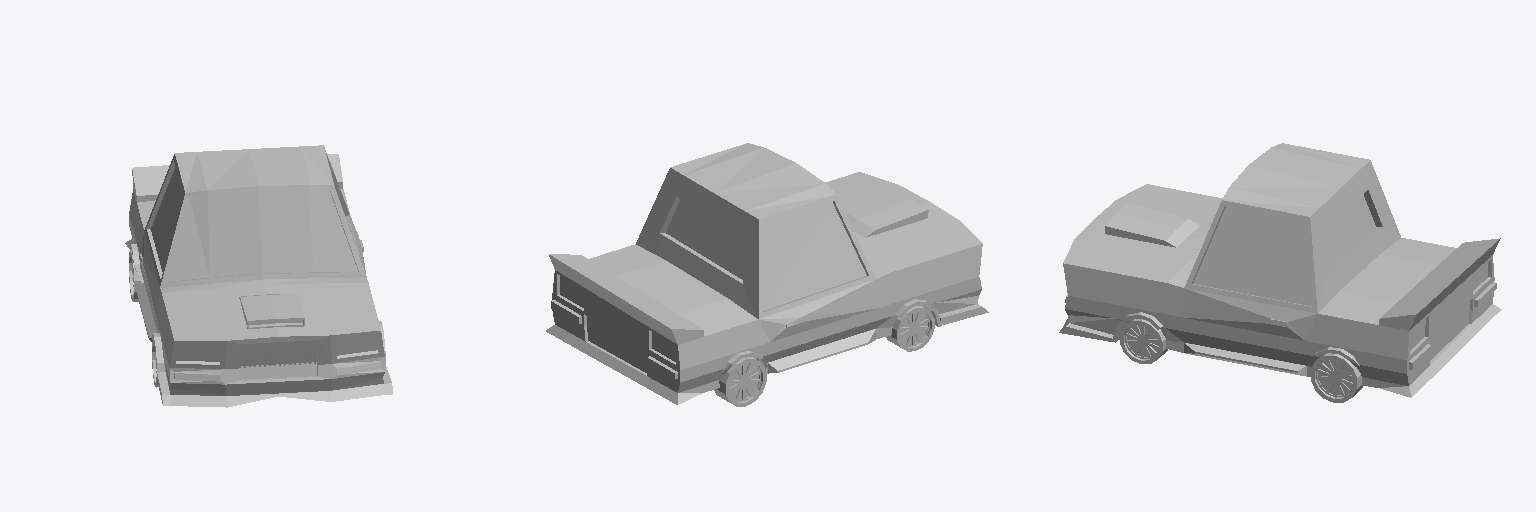
File: automobile.obj
3 renders of one model, left to right at view 1: azimuth 30°, elevation 25°; view 2: azimuth 150°, elevation 25°; view 3: azimuth 270°, elevation 25°, orthographic.
Parts seen in each view (by area): view 1: body_ID56, lattice.1_ID29, headlight_ID66; view 2: body_ID56, wheel.1_ID84, wheel1.1_ID93, backlight_ID75; view 3: body_ID56, wheel.1_ID84, wheel1.1_ID93.
Part boxes in pixels (bbox=[...]): body_ID56: bbox=[125, 145, 392, 407]; lattice.1_ID29: bbox=[239, 340, 316, 379]; headlight_ID66: bbox=[176, 335, 377, 361]; body_ID56: bbox=[546, 143, 988, 404]; wheel.1_ID84: bbox=[714, 357, 766, 406]; wheel1.1_ID93: bbox=[886, 306, 934, 351]; backlight_ID75: bbox=[560, 276, 675, 361]; body_ID56: bbox=[1059, 143, 1501, 397]; wheel.1_ID84: bbox=[1311, 353, 1362, 402]; wheel1.1_ID93: bbox=[1120, 319, 1167, 363].
Size of the model in its own units: 2.16 by 1.11 by 2.64.